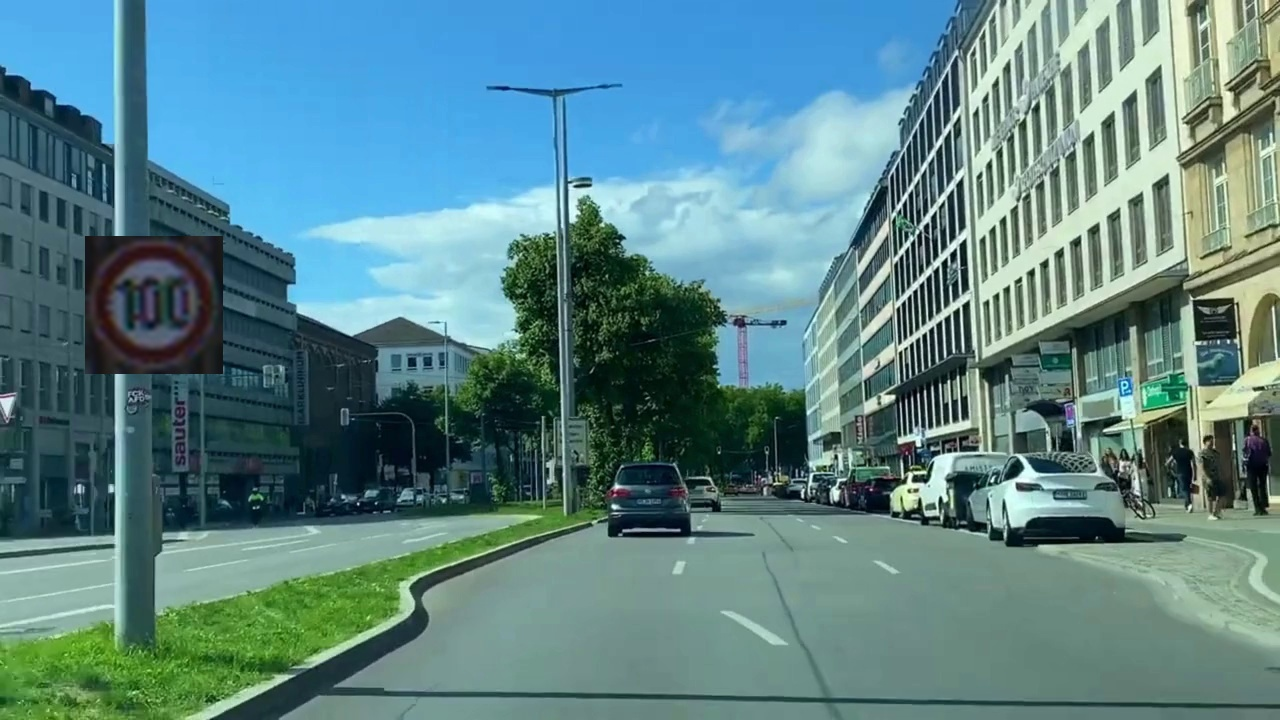Speed 100: (85, 236, 223, 374)
